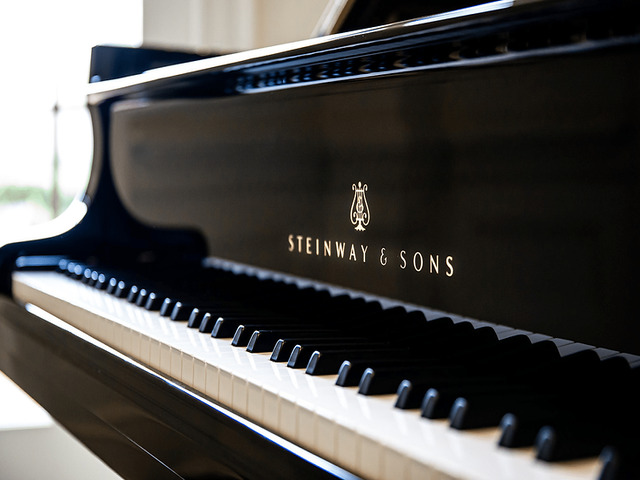Piano: (0, 25, 612, 476)
